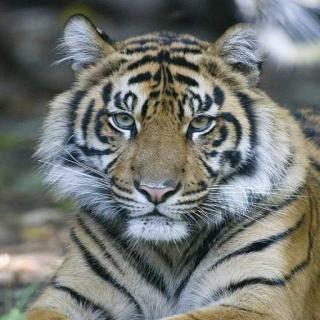Tiger: (25, 10, 320, 320)
